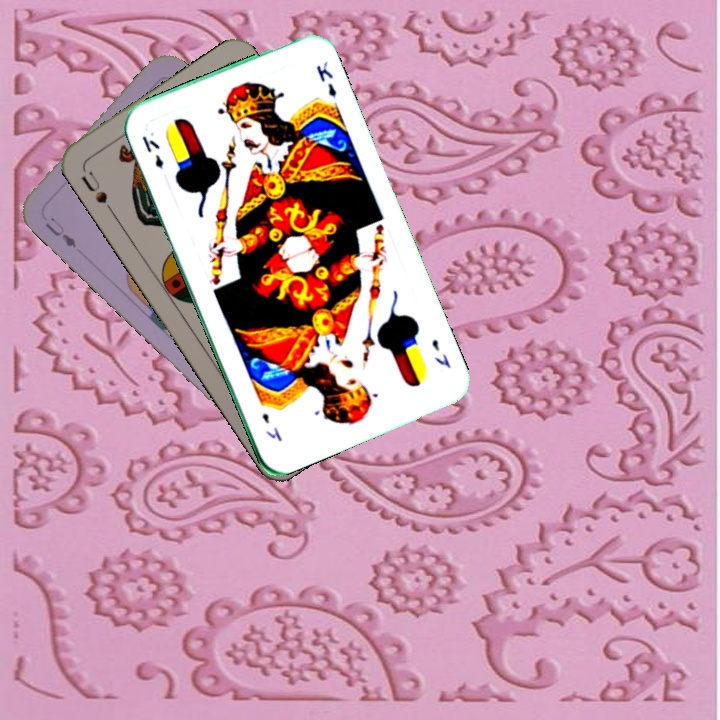EK: (138, 131, 166, 171), (427, 335, 453, 371)
EU: (40, 212, 79, 251)
SU: (77, 164, 117, 217)
